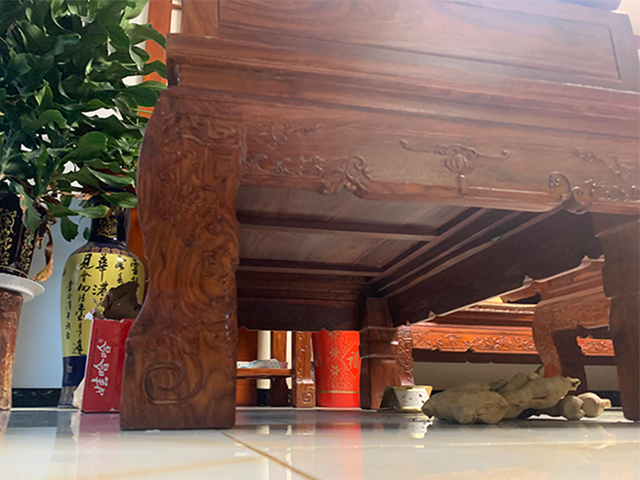sofa: (121, 1, 640, 432)
trashcan: (313, 329, 362, 410)
